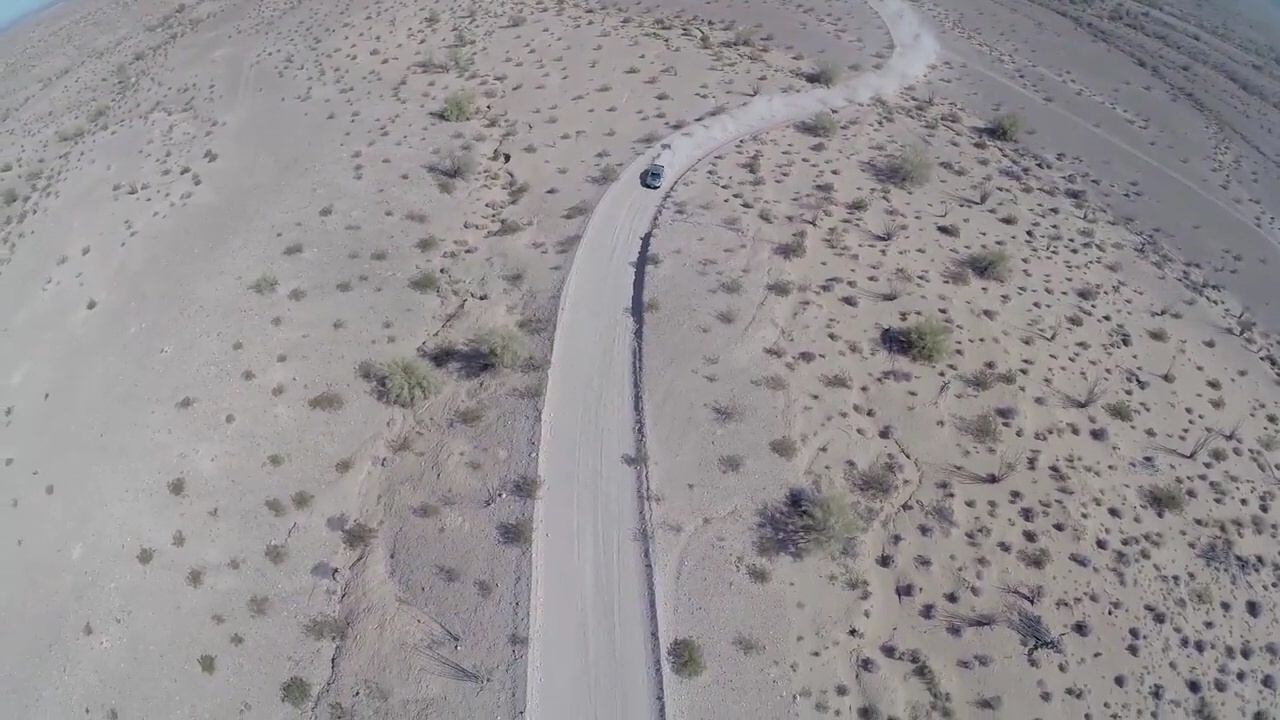araba: (644, 164, 668, 189)
